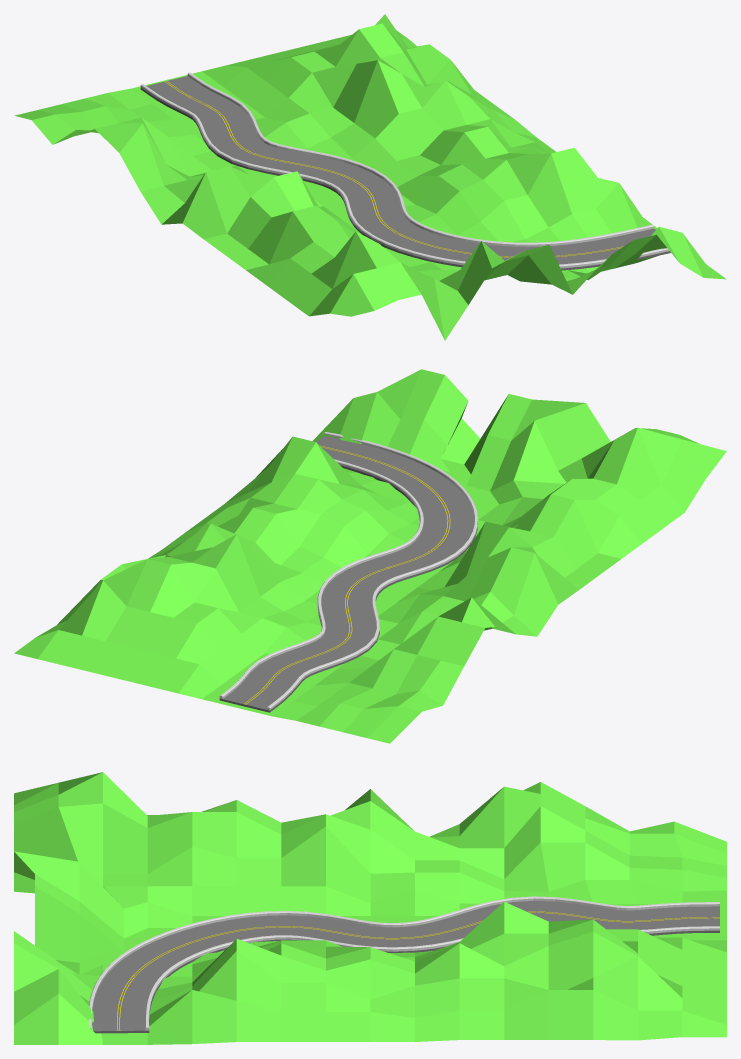
The model's file is road.fbx.
3 views of the same model, one above another, from view 1: azimuth 30°, elevation 25°; view 2: azimuth 150°, elevation 25°; view 3: azimuth 270°, elevation 25° (orthographic). The views are drawn at different scales.
Visible parts, largest first — view 1: Plane, Cube; view 2: Plane, Cube; view 3: Plane, Cube.
Boxes of the visible parts, box(x1,y1,x2,y2) form: Plane: box(14, 14, 726, 340); Cube: box(140, 72, 670, 270); Plane: box(14, 369, 726, 743); Cube: box(219, 432, 477, 712); Plane: box(14, 772, 726, 1044); Cube: box(88, 896, 719, 1033).
Size of the model in its own units: 5551 by 1387 by 8456.
